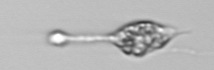plankton: (44, 16, 194, 60)
